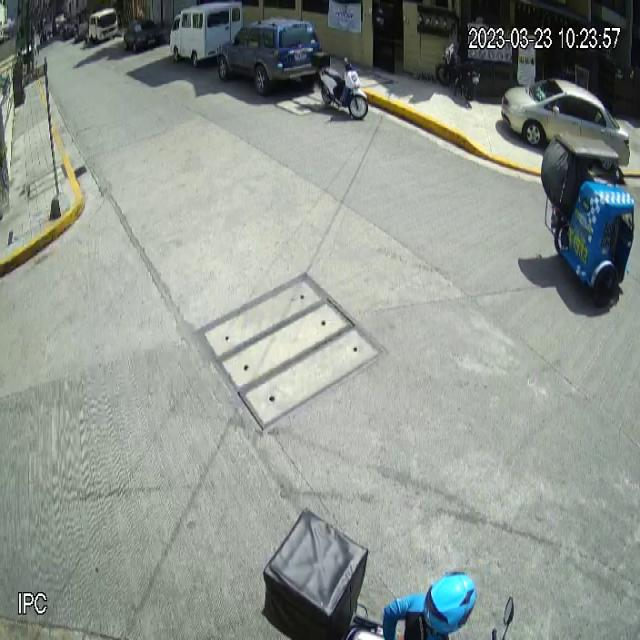Car: (500, 78, 630, 174), (218, 17, 324, 99)
Motorcycle: (312, 48, 369, 120)
Tricycle: (539, 133, 635, 309)
Van: (170, 1, 245, 67)
